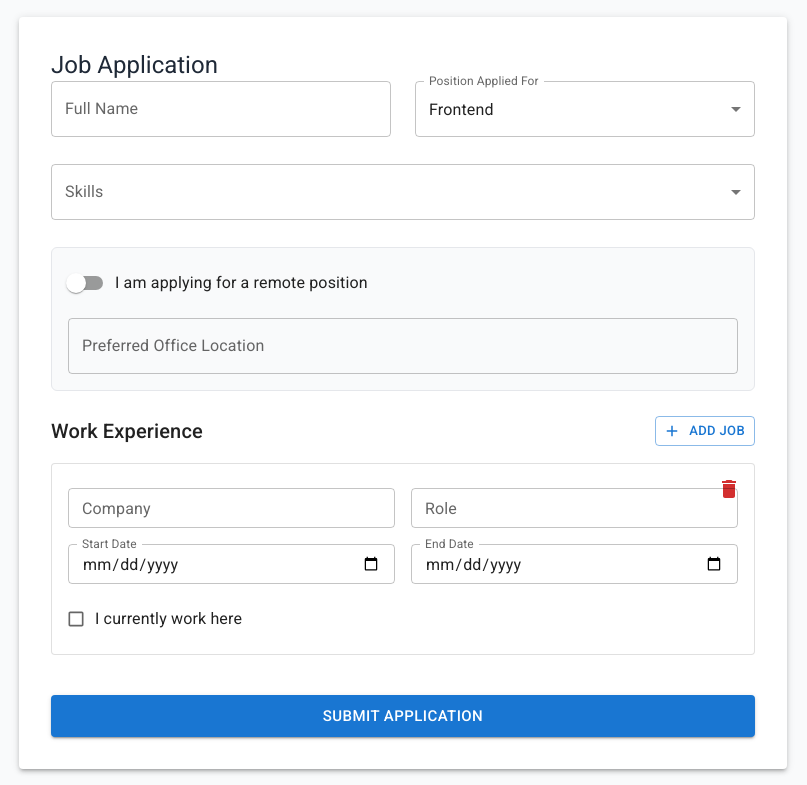
JobApplicationForm › should toggle location field based on remote switch
The width and height of the screenshot is (807, 785).
Expected: the field labelled "Preferred Office Location" is shown, x1=68 y1=318 x2=738 y2=374
// Click Remote Switch
Click the switch labelled "I am applying for a remote position": (217, 283) x1=66 y1=273 x2=368 y2=293
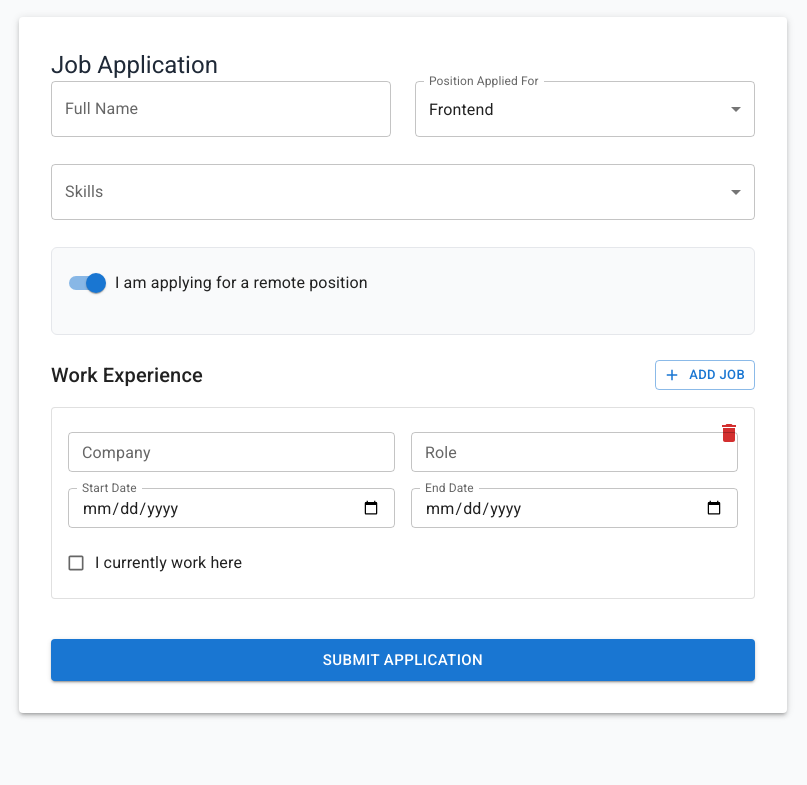
Result: the label labelled "Preferred Office Location" is gone
// Toggle back
Click the switch labelled "I am applying for a remote position": (218, 283) x1=69 y1=273 x2=368 y2=293
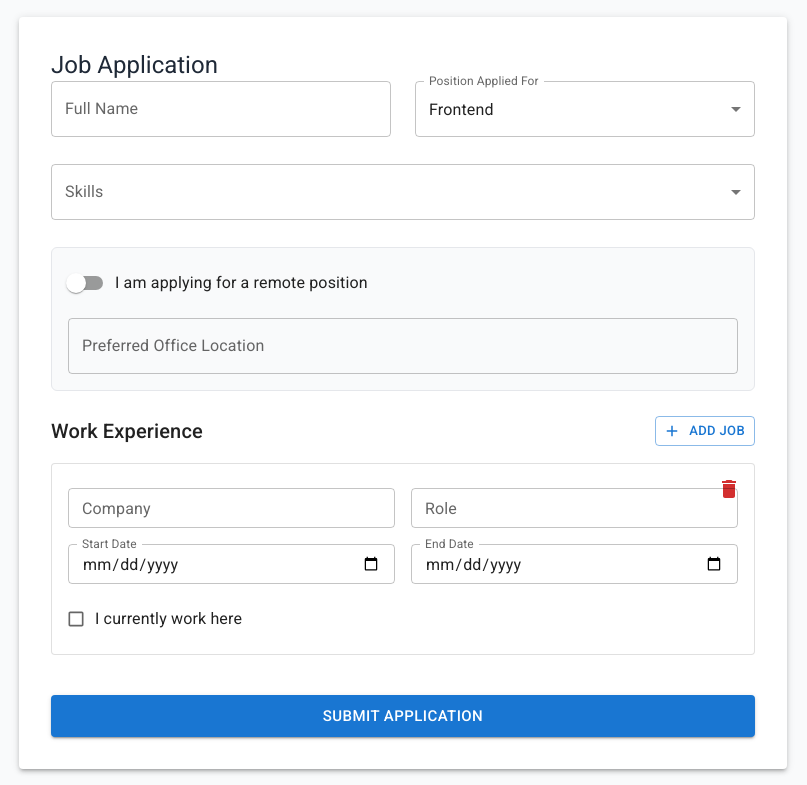
Result: the field labelled "Preferred Office Location" is shown at x1=68 y1=318 x2=738 y2=374
